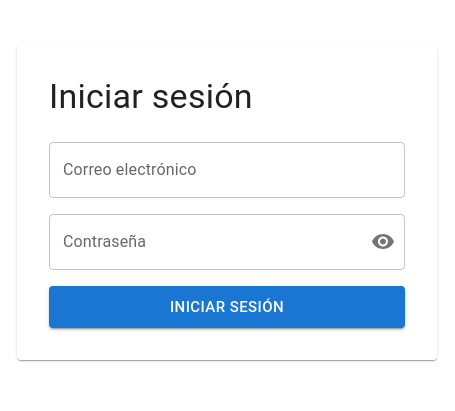
Test case: LoginPage › ApiError 401 muestra el title genérico y el correlation ID sin credenciales
In the field labelled "Correo electrónico": [227, 170] box [49, 142, 405, 198], type "admin@icarus.test"
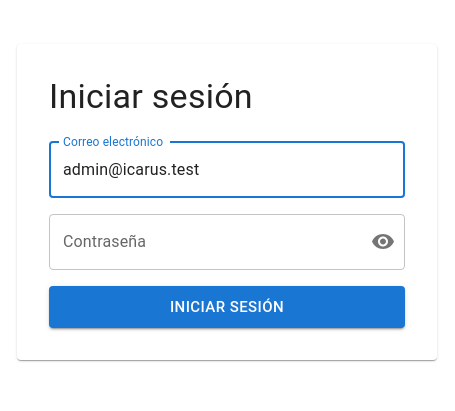
In the password field labelled "Contraseña": [202, 242] box [49, 214, 355, 270], type "Secreto-123"
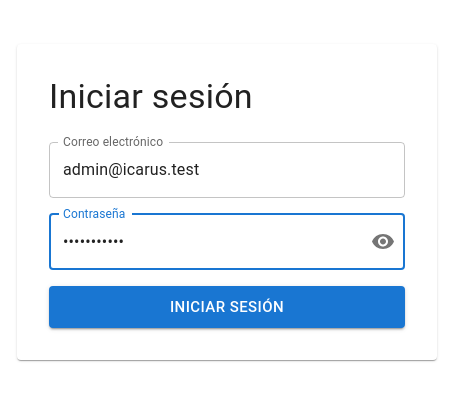
Click the button "Iniciar sesión": [227, 307] box [49, 286, 405, 328]
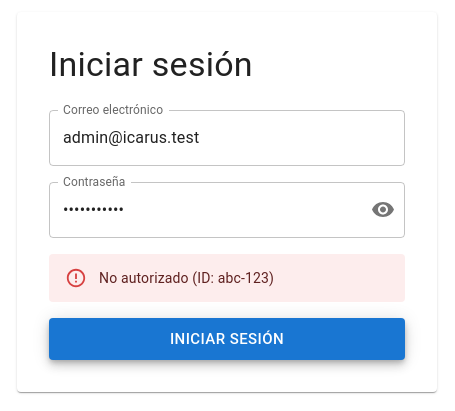
Check: the text "No autorizado (ID: abc-123)" is shown, box [99, 270, 274, 286]
